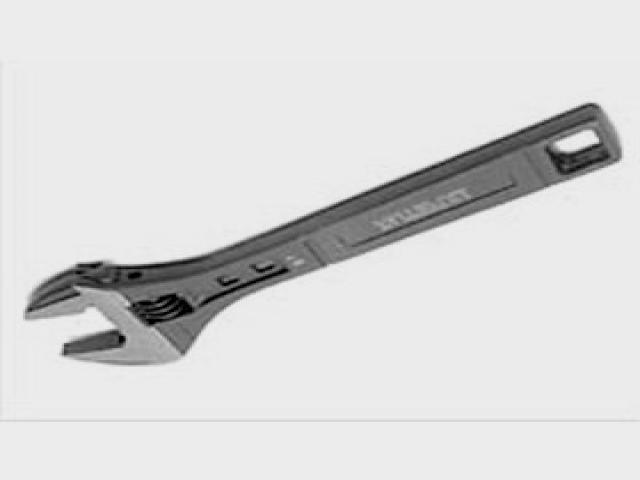Adjustable spanner: (25, 105, 618, 366)
